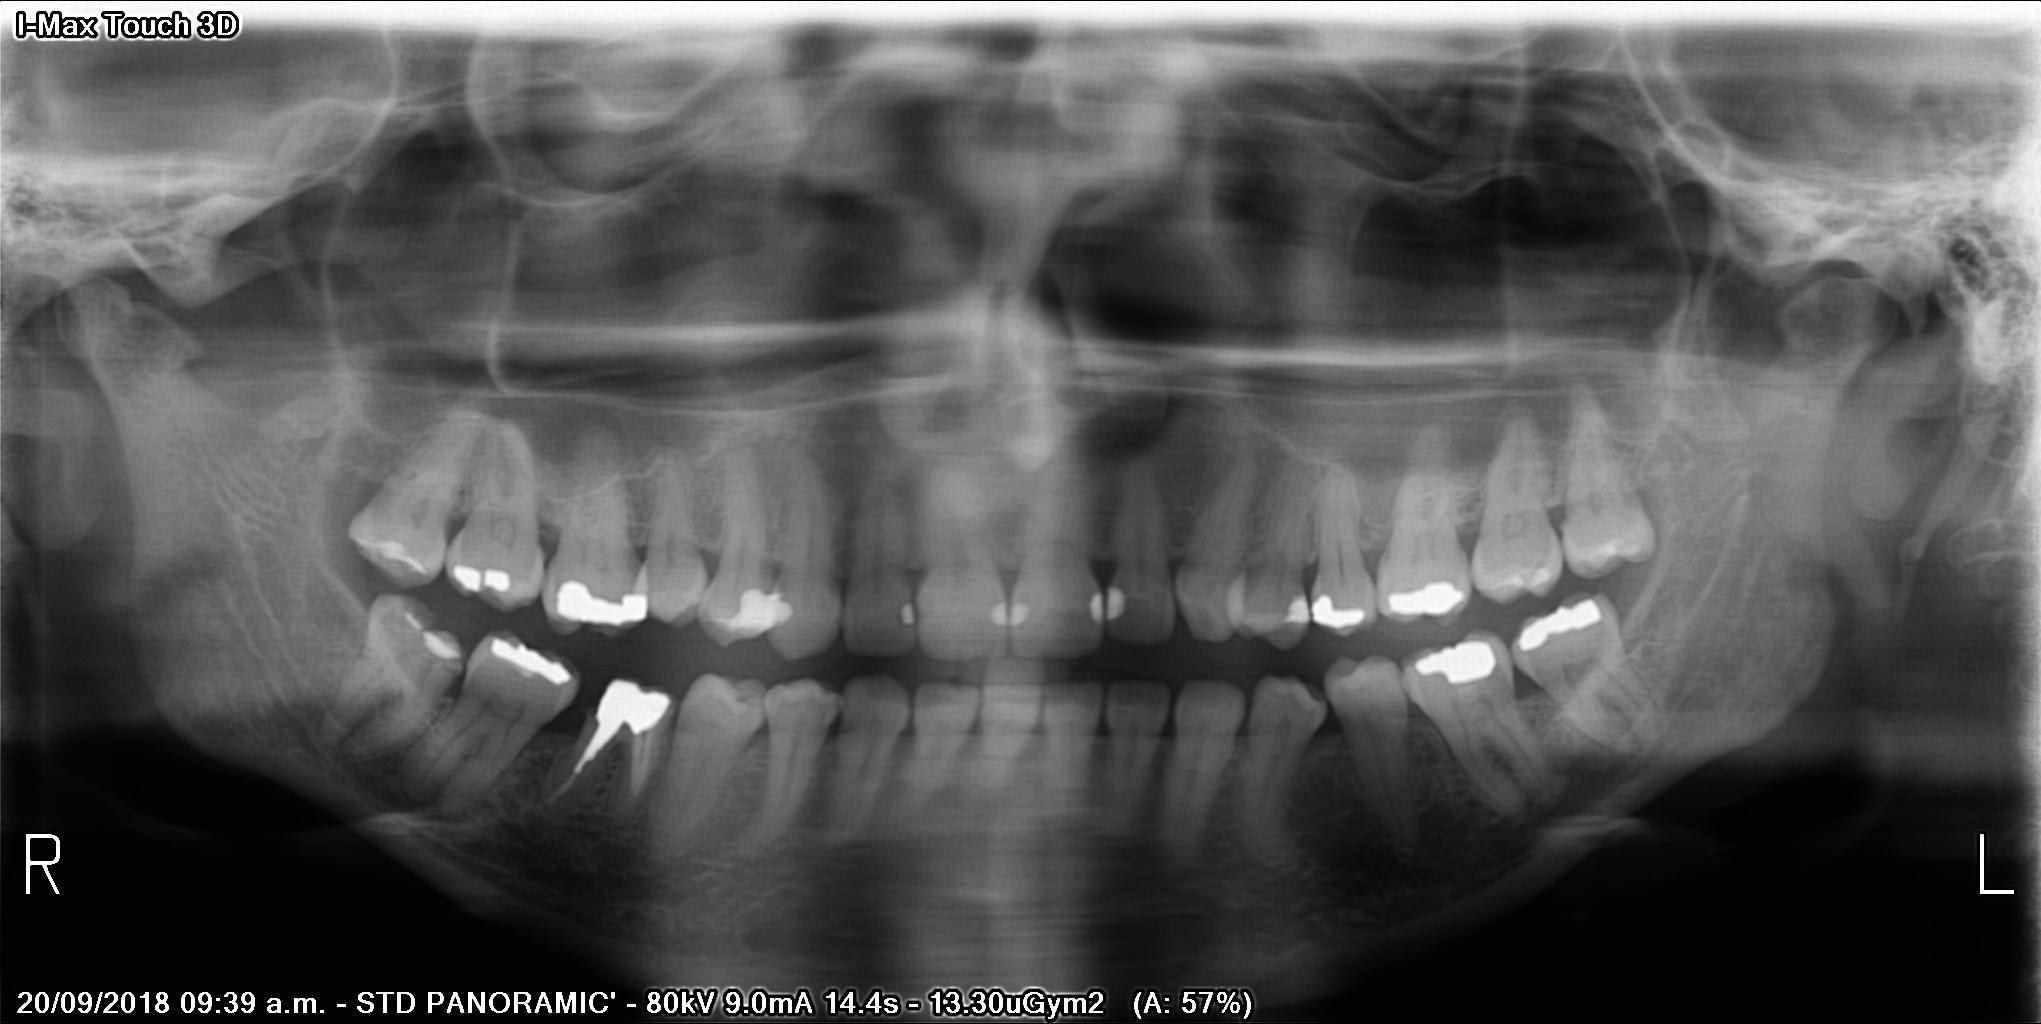Çürük: (590, 674, 691, 746), (543, 572, 652, 636), (1502, 596, 1615, 650), (1402, 637, 1515, 690), (722, 575, 800, 644), (488, 636, 569, 694), (1385, 575, 1473, 623), (367, 524, 430, 589), (1288, 590, 1366, 635), (445, 562, 526, 600), (1089, 593, 1124, 620), (992, 603, 1032, 620), (908, 602, 915, 626)
Çürük Bölgesi: (384, 609, 451, 711), (891, 597, 909, 636)
